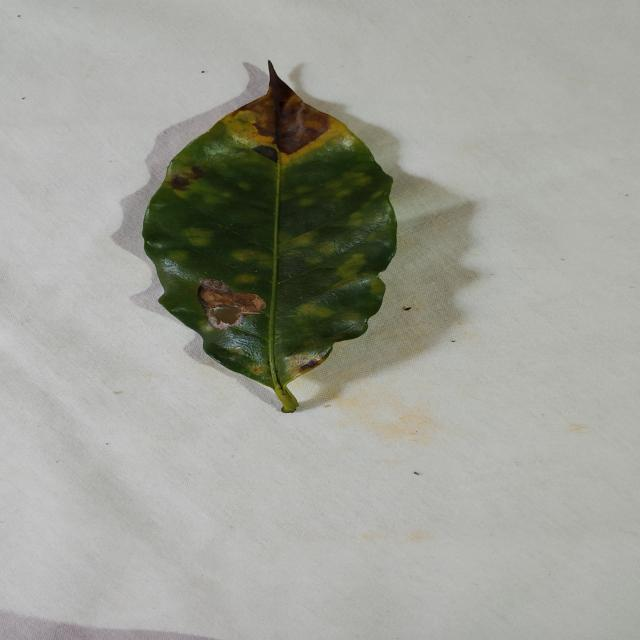Enfermedad-Roya: (140, 64, 397, 415)
